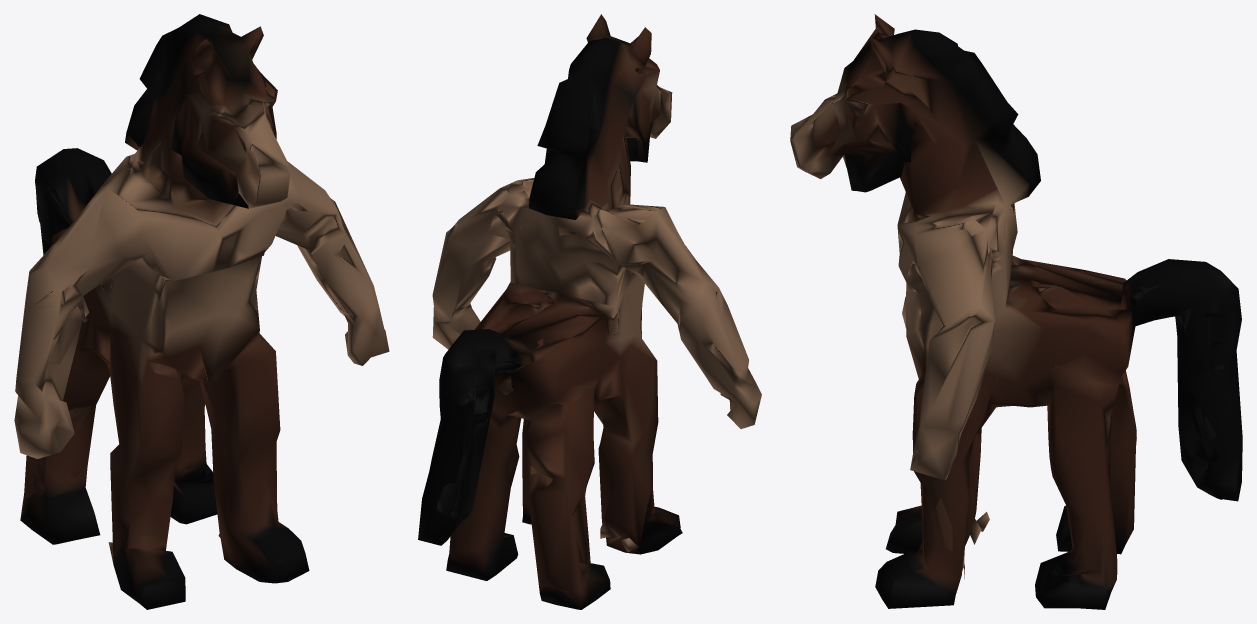
Rendered from gen3d-centaur-lod0.glb.
3 renders of one model, left to right at view 1: azimuth 30°, elevation 25°; view 2: azimuth 150°, elevation 25°; view 3: azimuth 270°, elevation 25°, orthographic. The views are drawn at different scales.
Visible parts, largest first — view 1: part_0; view 2: part_0; view 3: part_0.
Boxes of the visible parts, x1,y1,x2,y2 form: part_0: (14, 14, 389, 609); part_0: (418, 14, 761, 609); part_0: (790, 14, 1242, 609).
Size of the model in its own units: 0.6726 by 0.9998 by 0.7489.
